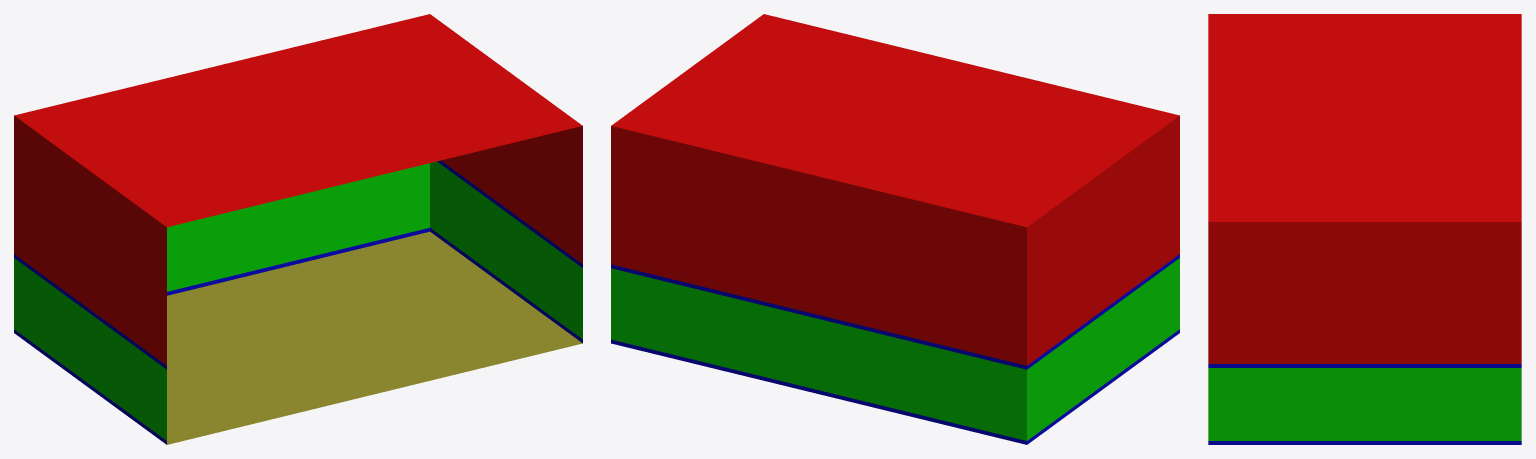
File: SM_Room6x4.fbx
The picture shows the model from 3 angles, left to right: view 1: azimuth 30°, elevation 25°; view 2: azimuth 150°, elevation 25°; view 3: azimuth 270°, elevation 25°; orthographic projection. The views are drawn at different scales.
Visible parts, largest first — view 1: SM_Room6x4; view 2: SM_Room6x4; view 3: SM_Room6x4.
Boxes of the visible parts, <box> form: SM_Room6x4: <box>14,14,582,444</box>; SM_Room6x4: <box>611,14,1179,444</box>; SM_Room6x4: <box>1208,14,1521,444</box>.
Bounding box in the file's own units: 550 × 275 × 350.
